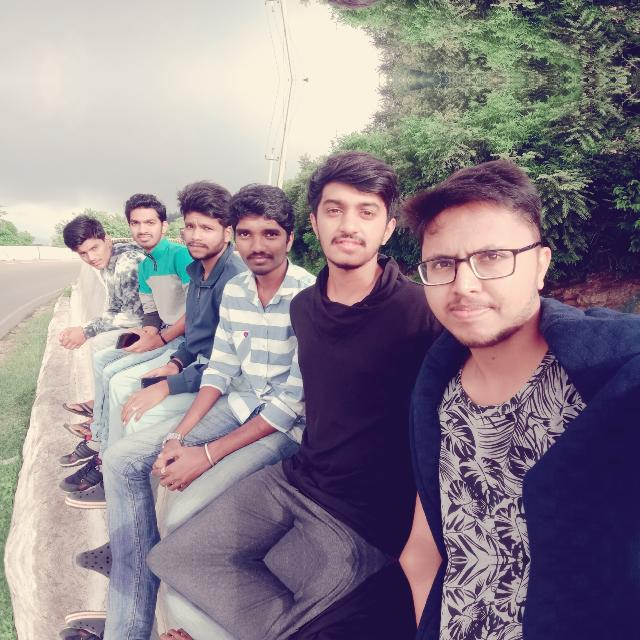person: (412, 147, 636, 558), (299, 148, 425, 532), (230, 176, 304, 488), (412, 562, 636, 640), (178, 171, 238, 371), (122, 186, 186, 354), (58, 204, 122, 330), (299, 587, 425, 640), (412, 0, 636, 13), (299, 0, 425, 12), (230, 632, 303, 640)
